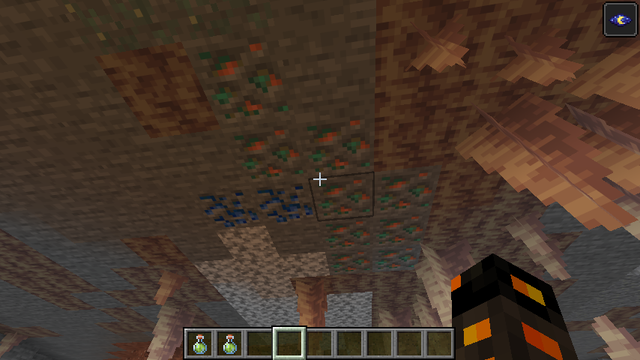copper: (188, 54, 376, 175), (311, 165, 437, 272)
lapis: (193, 183, 312, 226)
